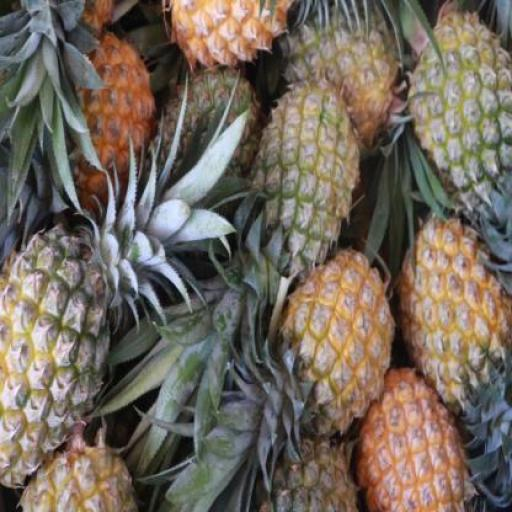------------------------------: (0, 226, 124, 487), (407, 8, 511, 212), (254, 87, 360, 282), (284, 2, 402, 146)
Pineapple - v8 v1: (393, 219, 503, 414), (282, 251, 390, 435), (356, 365, 470, 511)
